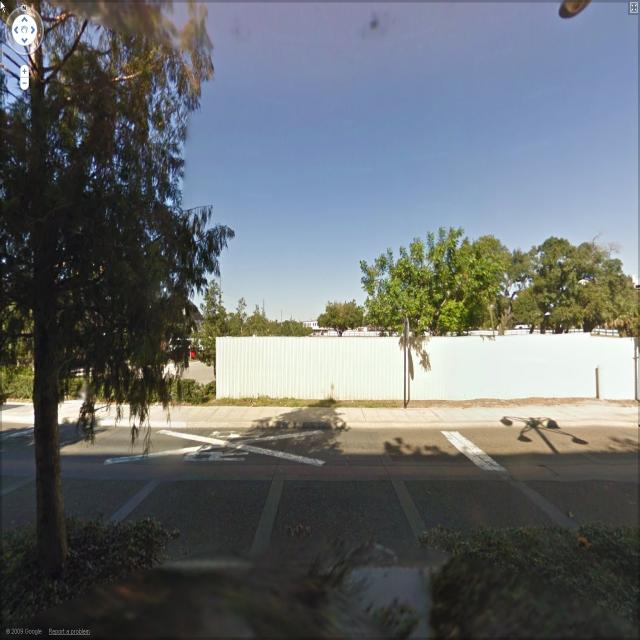b_2: (296, 303, 372, 341)
